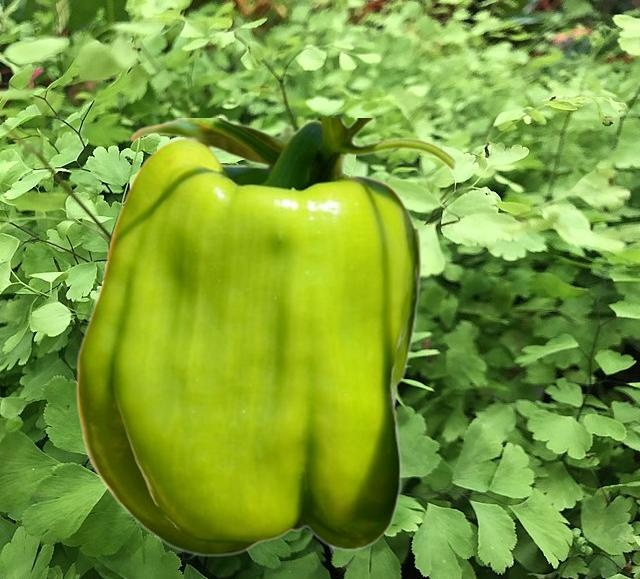bell_pepper: (75, 118, 456, 556)
